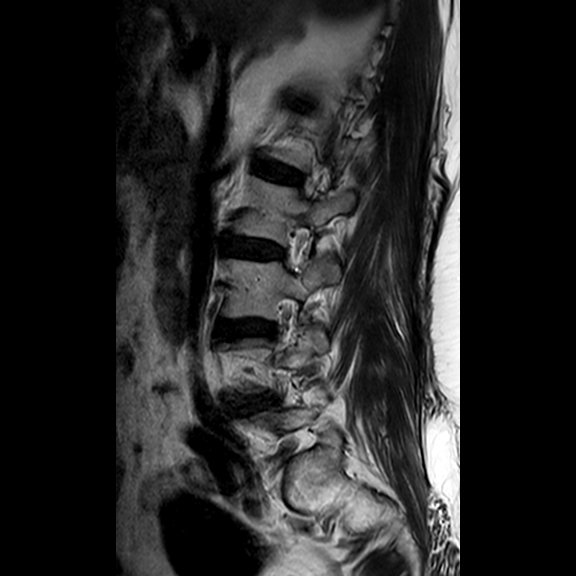RFS0: (276, 214, 320, 284)
